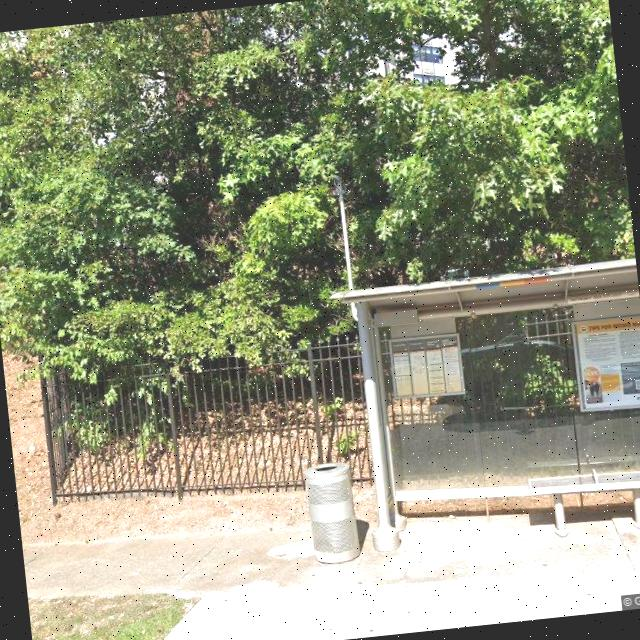seating: (524, 464, 640, 539)
shelter: (326, 258, 640, 561)
trash_can: (304, 462, 361, 566)
